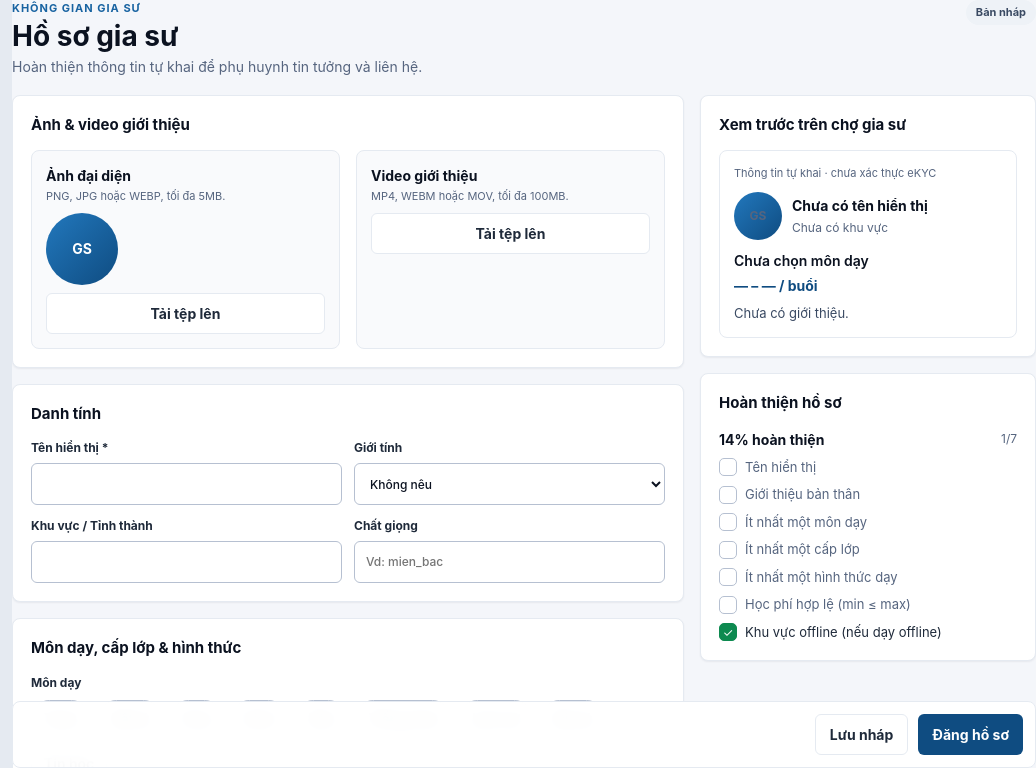
Scenario: ProfilePage › surfaces server publish requirements when the profile is incomplete
The image size is (1036, 768).
Step 1. Type "Cô Linh" into the field labelled "Tên hiển thị *" → (186, 484), box 31,463 -> 342,505
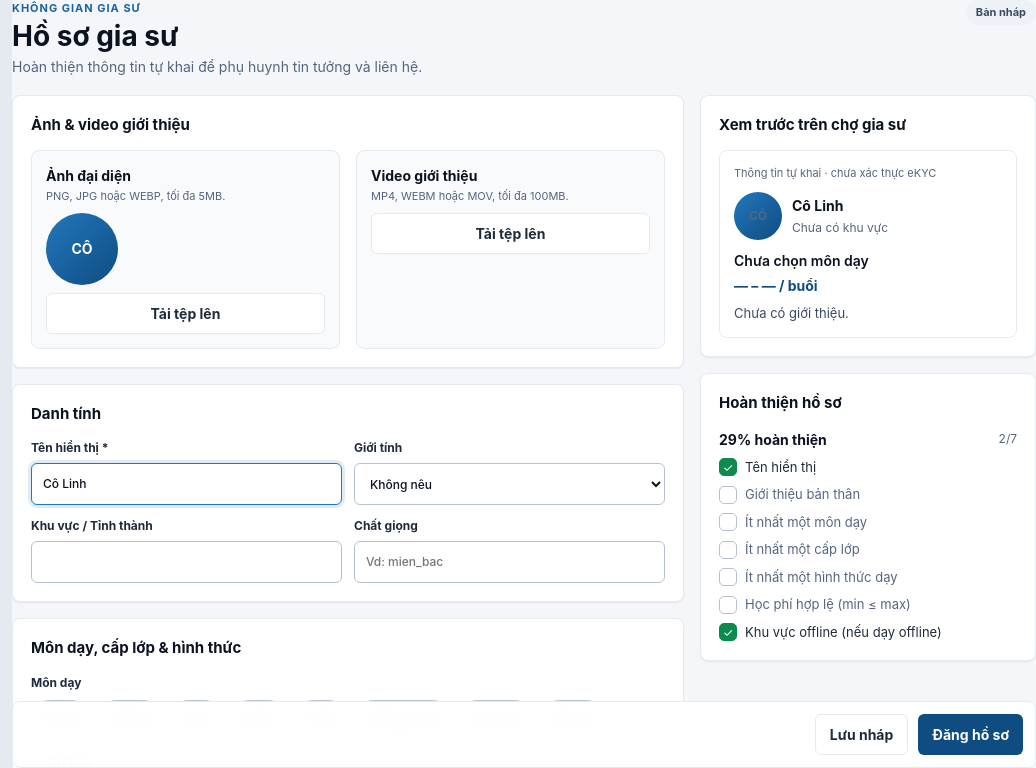
Step 2. Click the button "Đăng hồ sơ" → (971, 734), box 918,714 -> 1023,755
(page scrolled)
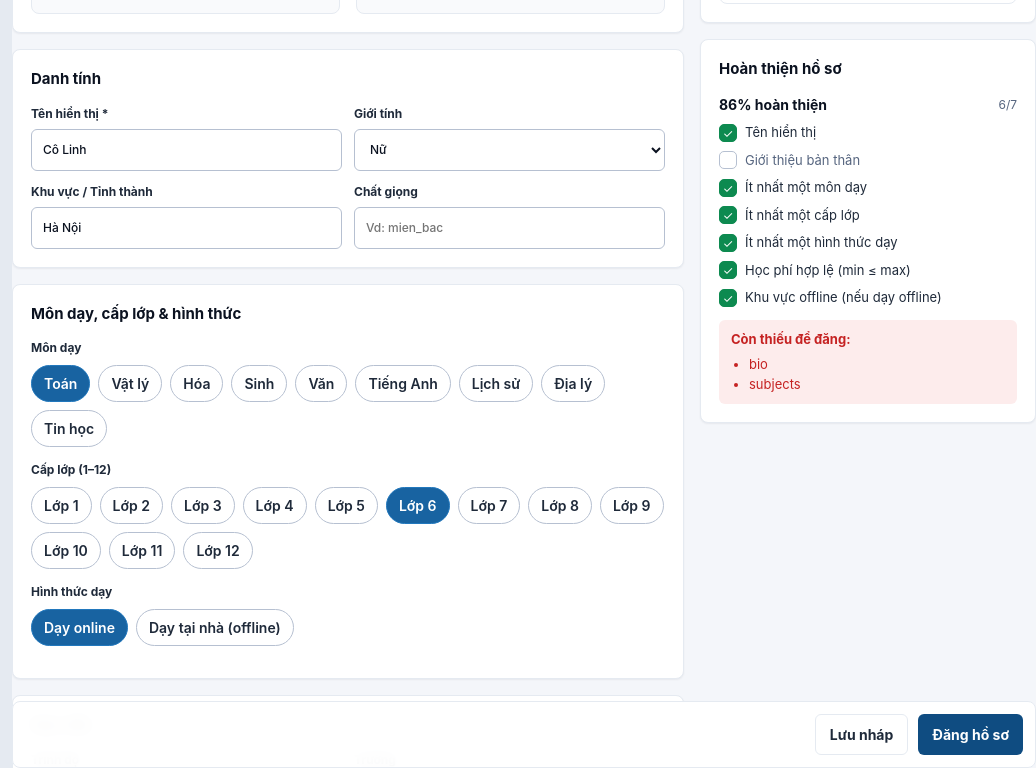
Expected: the text "Còn thiếu để đăng:" is shown, 731,330 -> 850,346
Expected: the list item "bio" is shown, 749,356 -> 768,372
Expected: the list item "subjects" is shown, 749,376 -> 801,392
